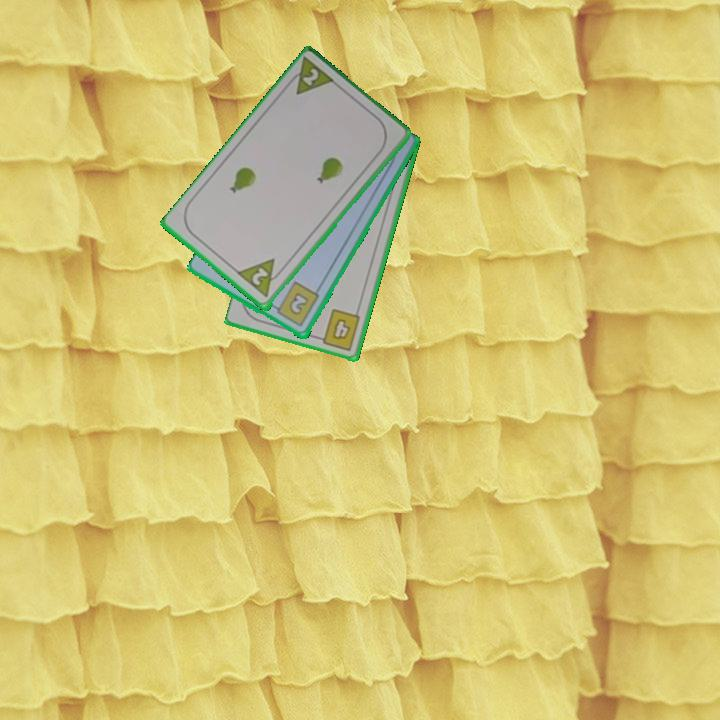2b: (269, 279, 322, 330)
2p: (282, 54, 339, 99), (235, 255, 288, 301)
4b: (313, 305, 363, 354)
